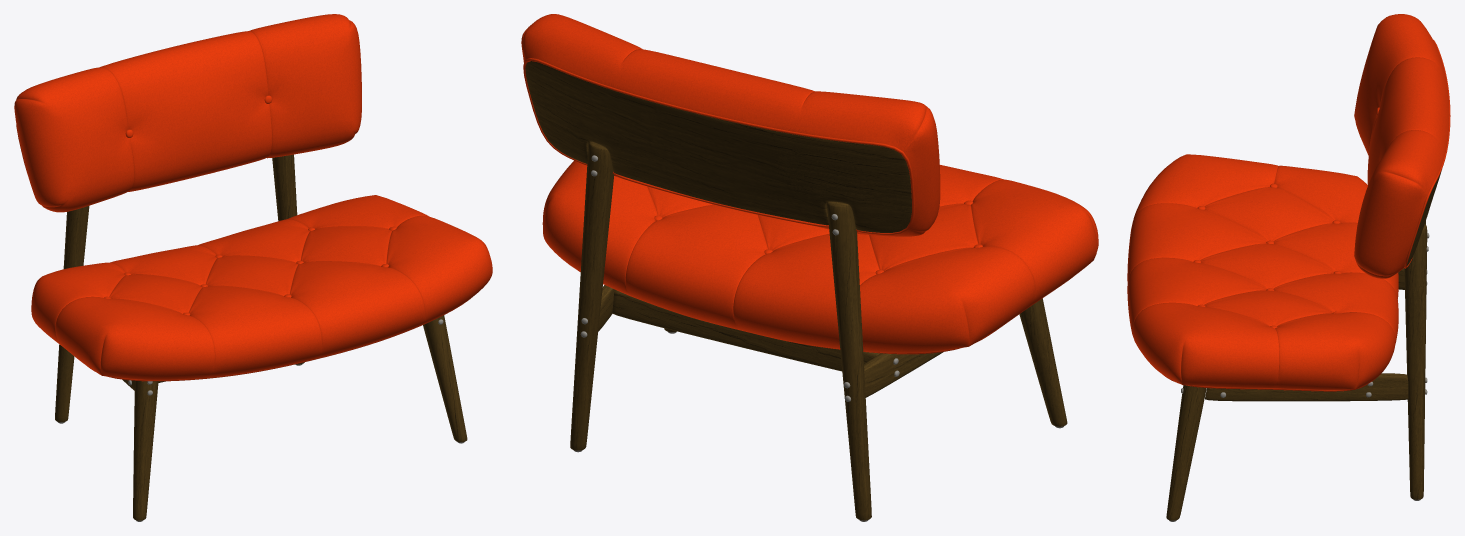
File: silla.glb
The picture shows the model from 3 angles, left to right: view 1: azimuth 30°, elevation 25°; view 2: azimuth 150°, elevation 25°; view 3: azimuth 270°, elevation 25°; orthographic projection. The views are drawn at different scales.
Visible parts, largest first — view 1: SheenChair_fabric, SheenChair_wood; view 2: SheenChair_fabric, SheenChair_wood; view 3: SheenChair_fabric, SheenChair_wood.
Part boxes in pixels (x1,y1,x2,y2): SheenChair_fabric: [14, 14, 492, 381]; SheenChair_wood: [55, 154, 467, 520]; SheenChair_fabric: [521, 14, 1098, 354]; SheenChair_wood: [525, 61, 1067, 520]; SheenChair_fabric: [1127, 14, 1450, 391]; SheenChair_wood: [1166, 170, 1441, 520].
Bounding box in the file's own units: 0.8266 × 0.6862 × 0.5702.
Materials: 3 (2 with a texture image).
